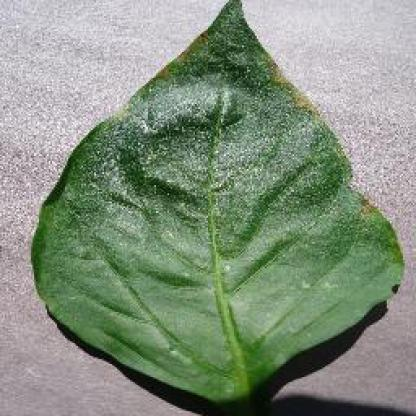bad leaf: (269, 54, 311, 113), (345, 180, 385, 232), (179, 33, 225, 66)
good leaf: (91, 164, 245, 364)
